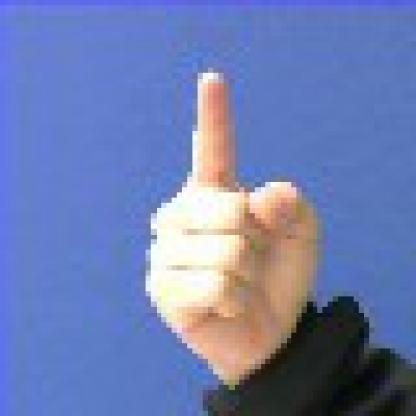one: (127, 60, 336, 393)
